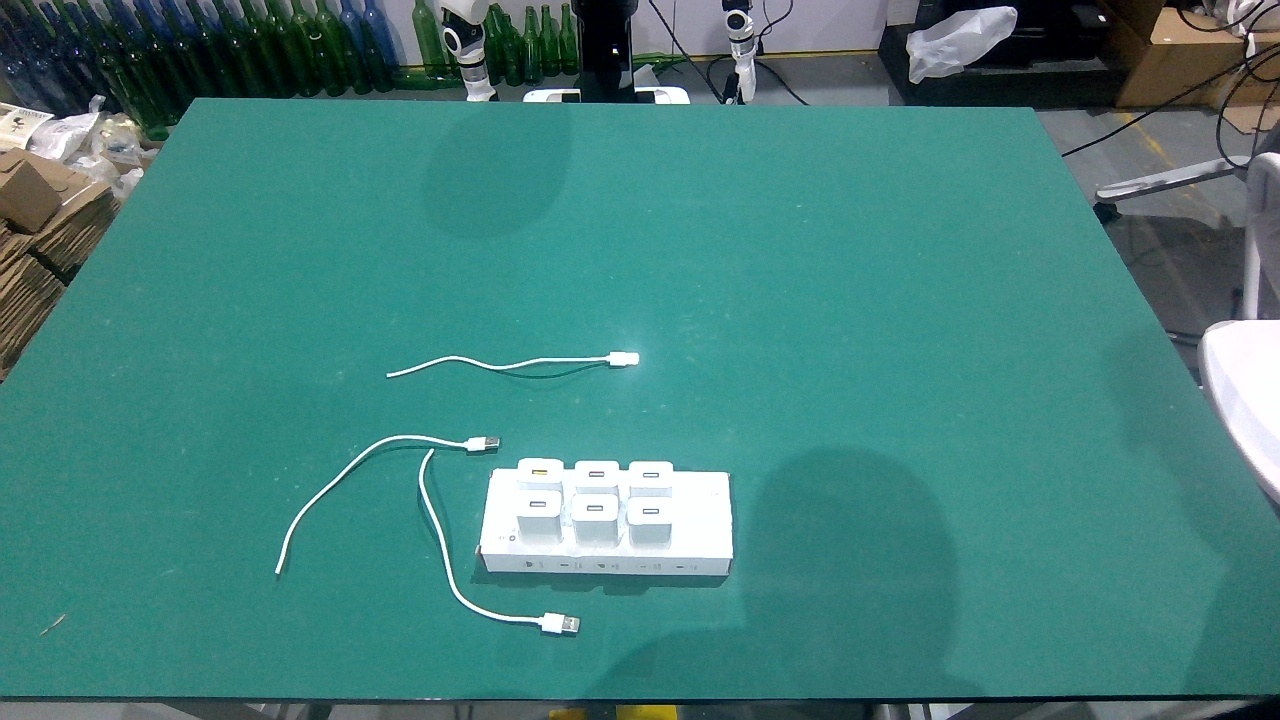usb_a_port: (586, 503, 606, 513), (641, 506, 661, 516), (588, 468, 605, 479), (641, 470, 661, 479), (528, 499, 547, 508), (531, 467, 548, 477)
